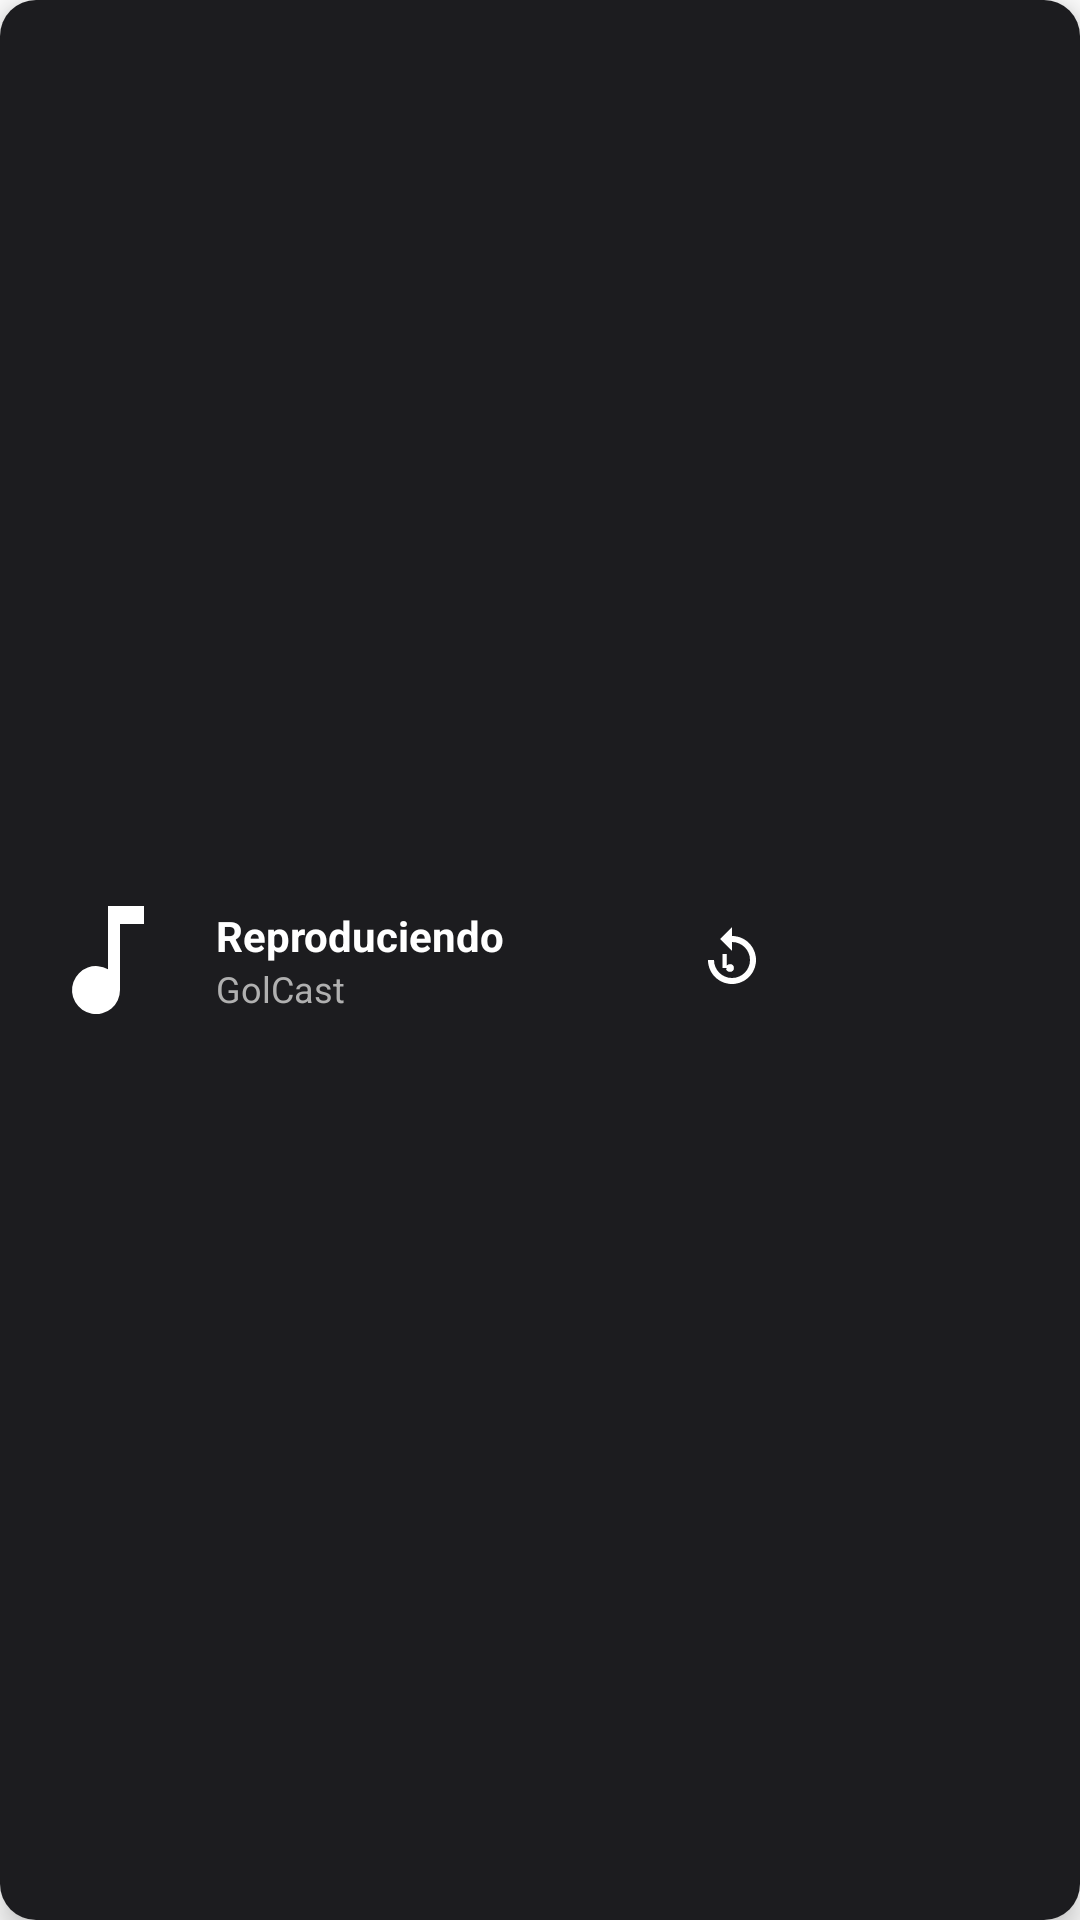

Screen size 1080w x 1920h. Icon name, then its center in pixels as (x,y):
music note: (108,960)
replay: (732,955)
